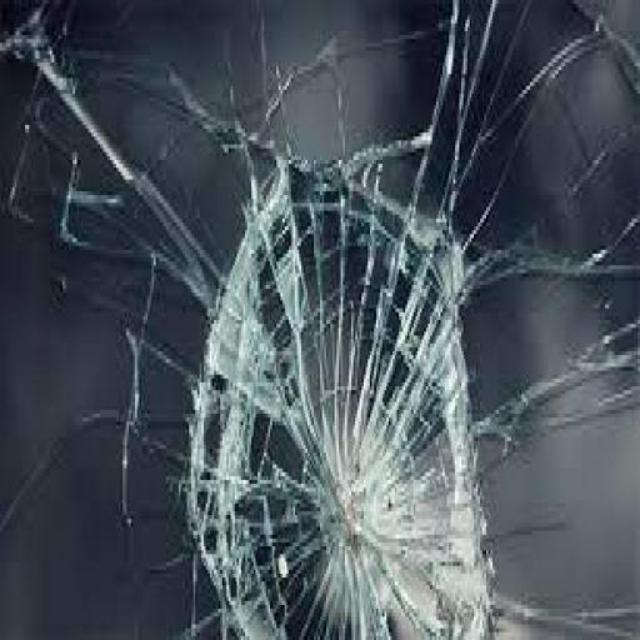glass shatter: (185, 160, 490, 636)
